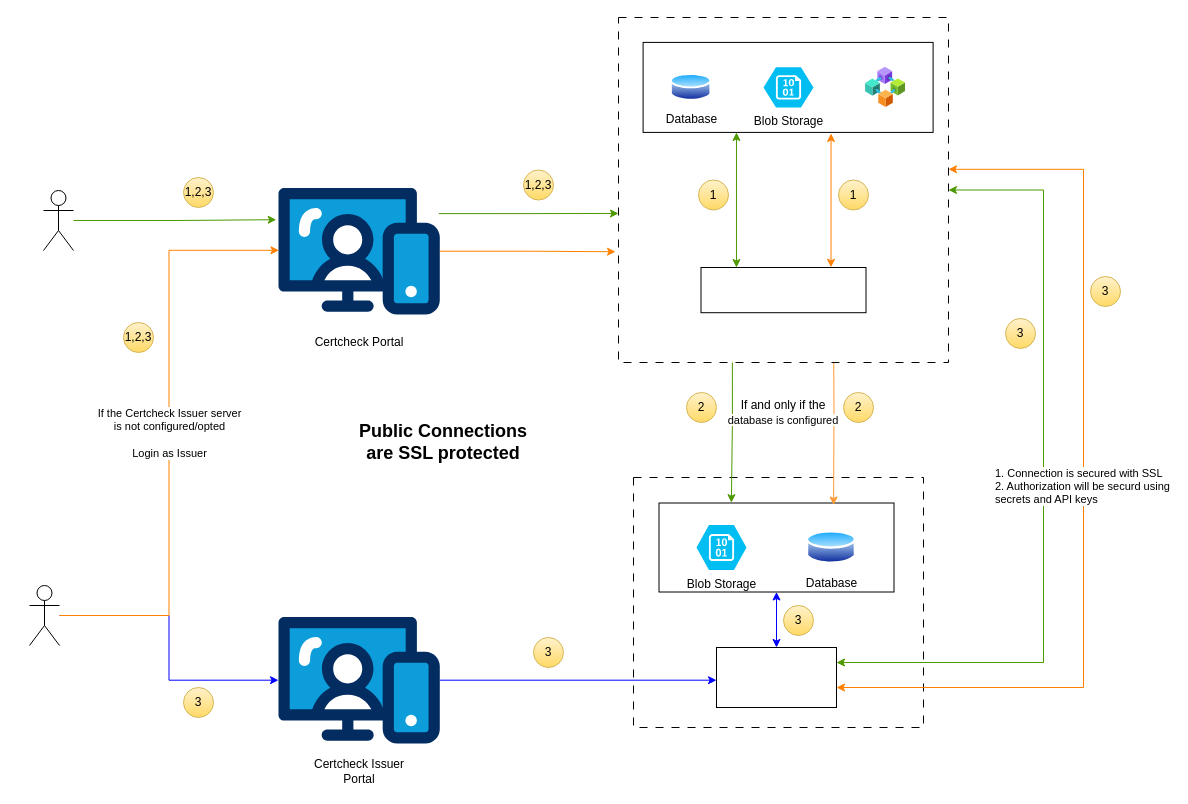
This 1188x804 diagram has some shape labels left out. The shapes that lost their labels are listed below. From the top down, each one's centre as x and y in pixels, then its label:
At (x=885, y=87): "Blockchain".
At (x=58, y=220): "Certcheck Candidates".
At (x=783, y=289): "Certcheck Main Server".
At (x=44, y=615): "Certcheck Issuers".
At (x=776, y=677): "Issuer Server (Certcheck Client Installed)".
